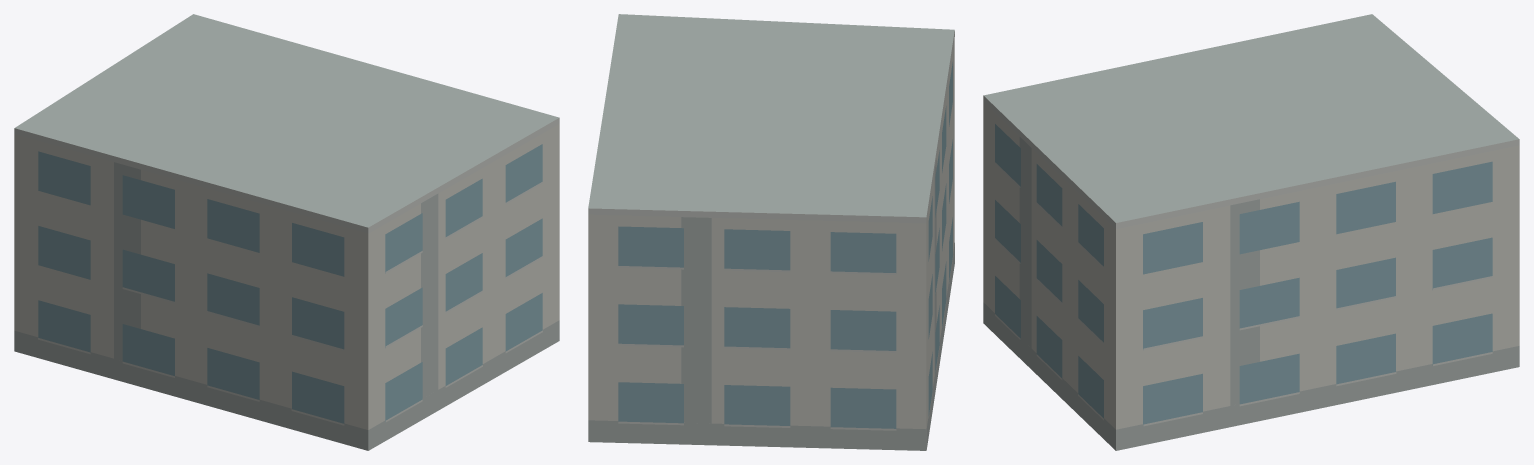
File: survey-upis-32891338.glb
3 views of the same model, side by side, from view 1: azimuth 30°, elevation 25°; view 2: azimuth 150°, elevation 25°; view 3: azimuth 270°, elevation 25° (orthographic). The views are drawn at different scales.
Parts seen in each view (by area): view 1: survey-upis-32891338.tmp; view 2: survey-upis-32891338.tmp; view 3: survey-upis-32891338.tmp.
Part boxes in pixels (bbox=[...]): survey-upis-32891338.tmp: bbox=[14, 14, 559, 450]; survey-upis-32891338.tmp: bbox=[588, 14, 954, 450]; survey-upis-32891338.tmp: bbox=[983, 14, 1519, 450].
Bounding box in the file's own units: 18.01 × 9.15 × 19.52.
